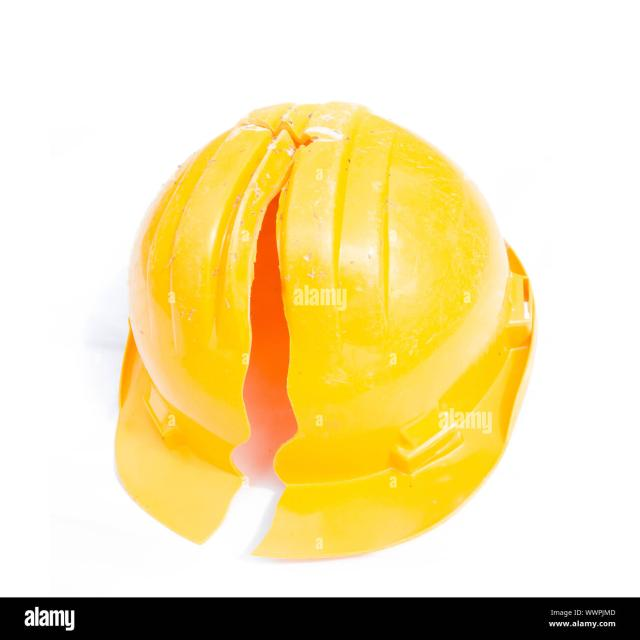BrokenHelmet: (201, 120, 314, 559)
